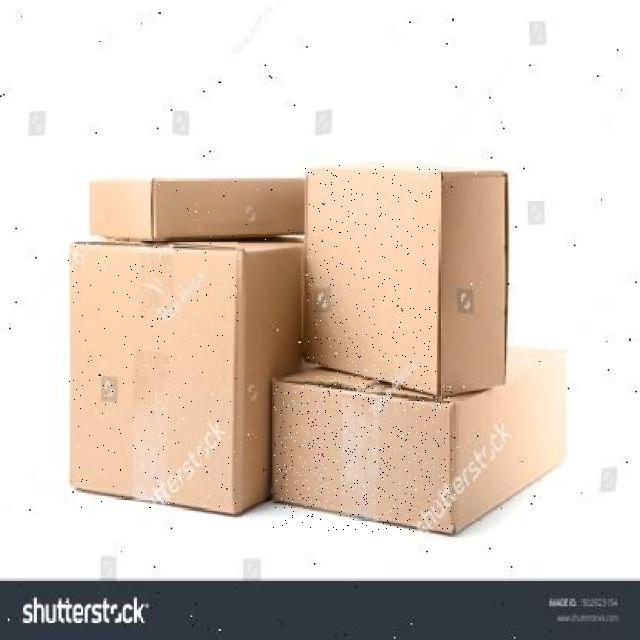BoxFace: (68, 242, 238, 509), (305, 166, 438, 400), (273, 386, 452, 532), (152, 173, 310, 242)
